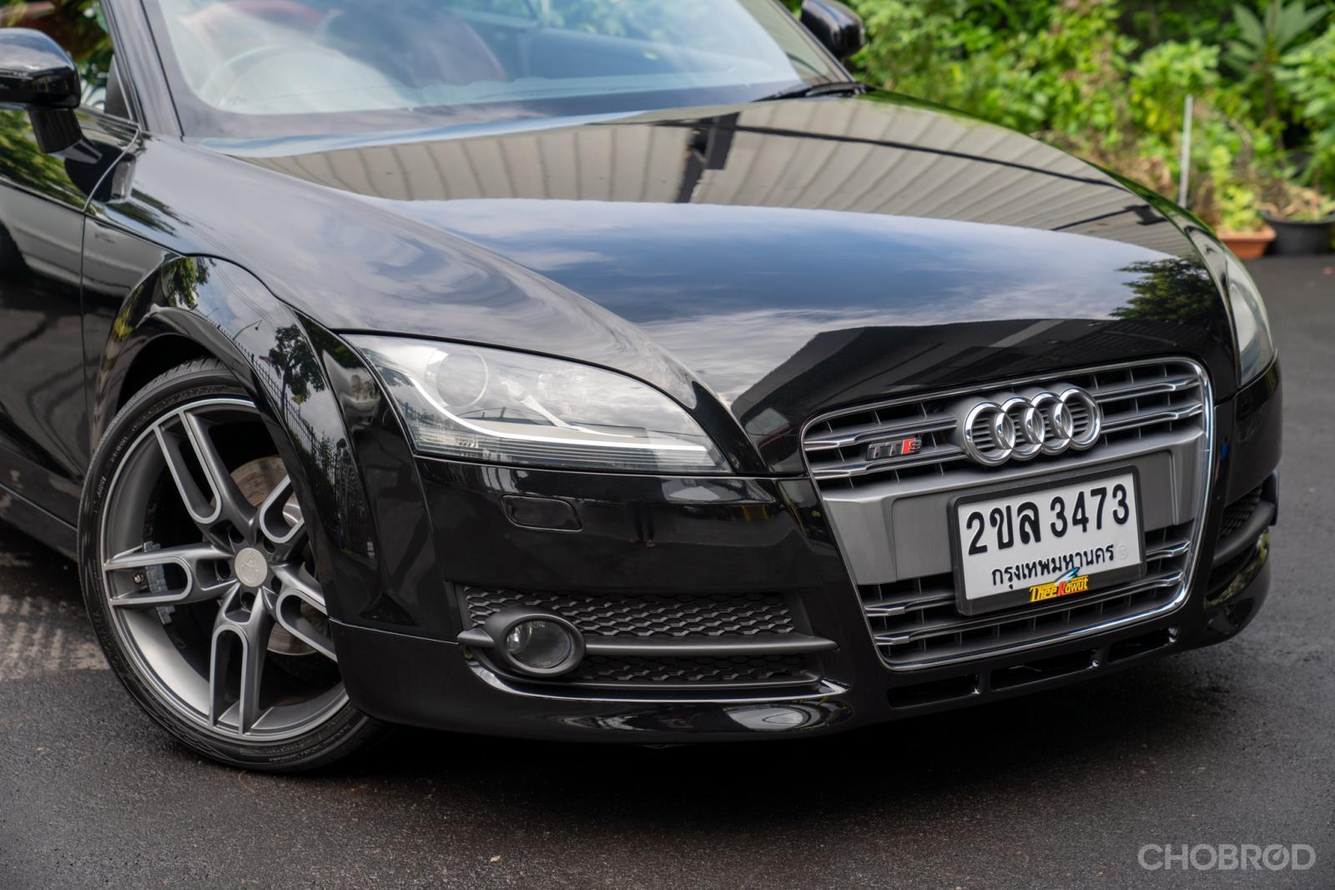license-plate: (948, 462, 1149, 623)
